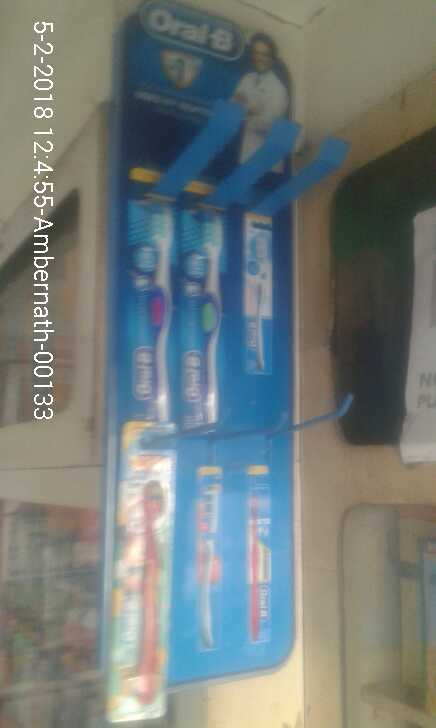oralb: (117, 445, 181, 728), (140, 202, 185, 429), (197, 204, 232, 429)
